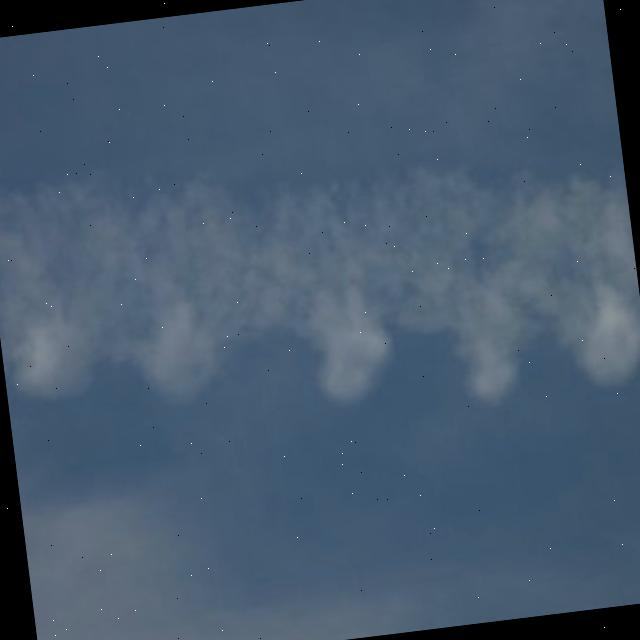Cc: (1, 56, 640, 514)
